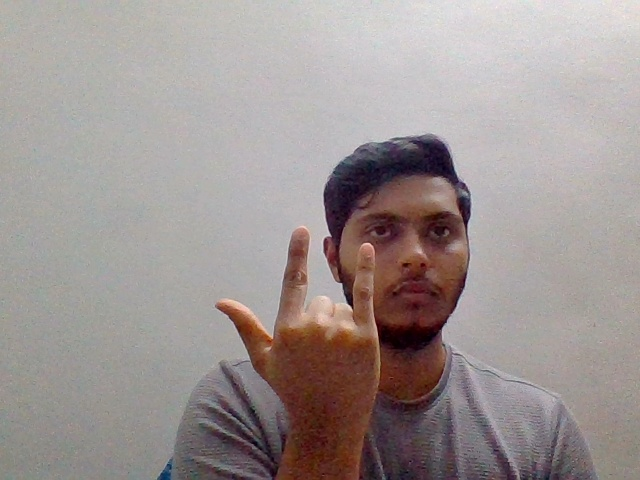I Love You: (209, 219, 390, 454)
